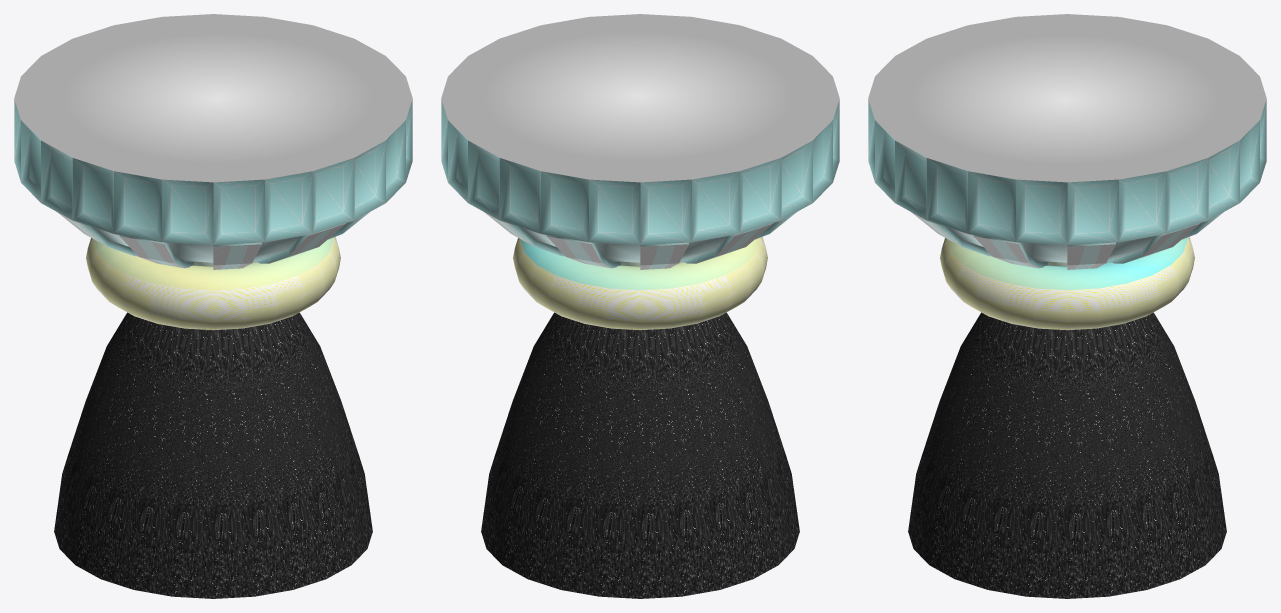
The model's file is Engine YF-1.obj.
The picture shows the model from 3 angles, left to right: view 1: azimuth 30°, elevation 25°; view 2: azimuth 150°, elevation 25°; view 3: azimuth 270°, elevation 25°; orthographic projection.
Parts seen in each view (by area): view 1: Base YF-1, Nozzle YF-1; view 2: Base YF-1, Nozzle YF-1; view 3: Base YF-1, Nozzle YF-1.
Boxes of the visible parts, left/top/right/bottom form: Base YF-1: left=14, top=14, right=412, bottom=330; Nozzle YF-1: left=54, top=312, right=372, bottom=598; Base YF-1: left=441, top=14, right=839, bottom=330; Nozzle YF-1: left=481, top=312, right=799, bottom=598; Base YF-1: left=868, top=14, right=1266, bottom=330; Nozzle YF-1: left=908, top=312, right=1226, bottom=598.
Bounding box in the file's own units: 1.25 × 1.5 × 1.25.
Materials: 2 (2 with a texture image).
